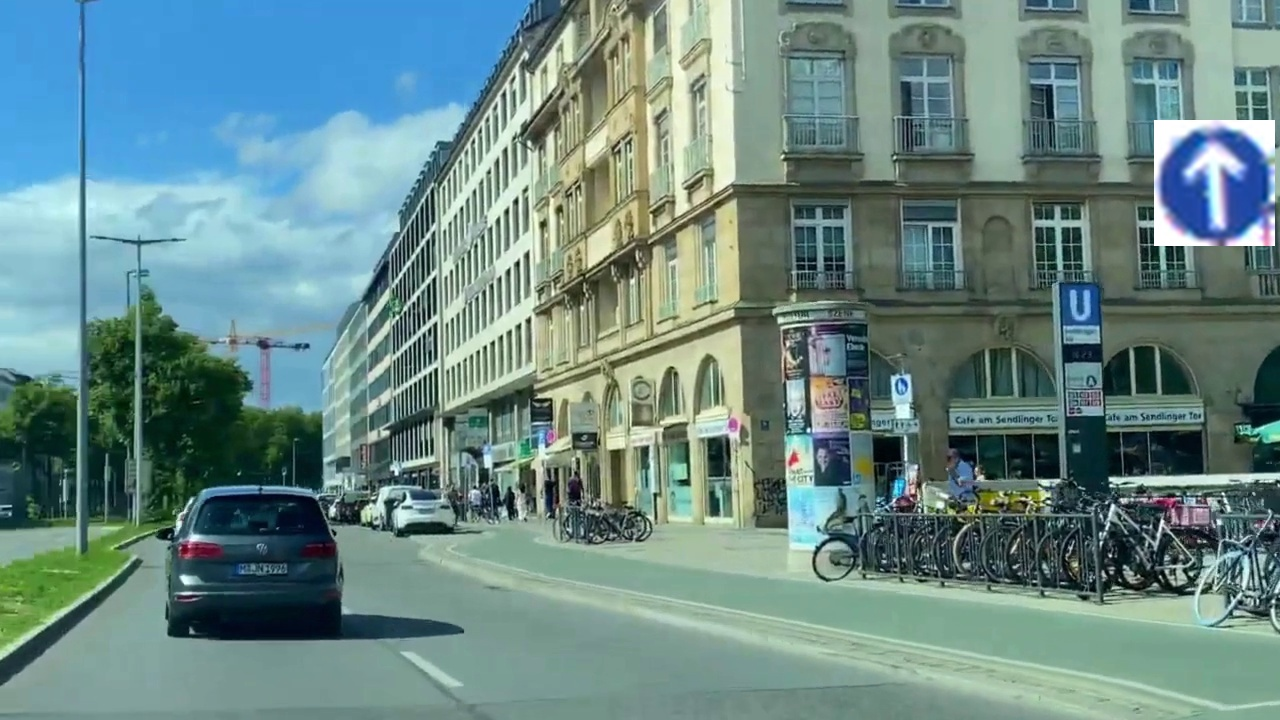Ahead only: (1154, 120, 1275, 246)
